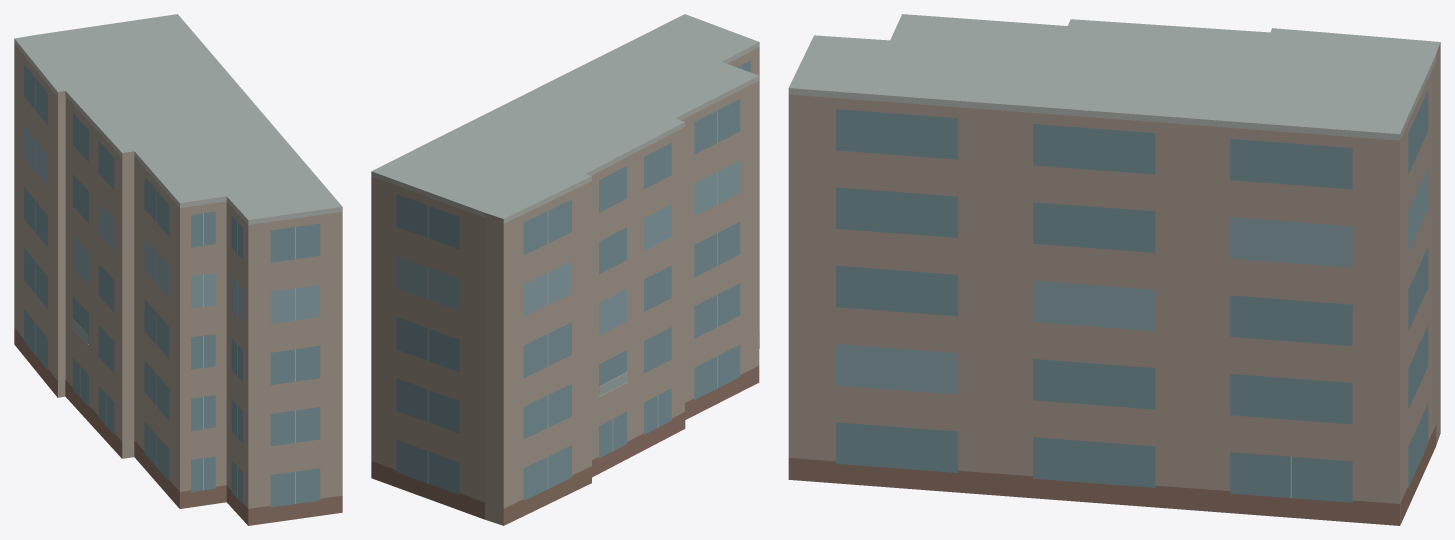
File: survey-upis-32870873.glb
The picture shows the model from 3 angles, left to right: view 1: azimuth 30°, elevation 25°; view 2: azimuth 150°, elevation 25°; view 3: azimuth 270°, elevation 25°; orthographic projection. The views are drawn at different scales.
Parts seen in each view (by area): view 1: survey-upis-32870873.tmp; view 2: survey-upis-32870873.tmp; view 3: survey-upis-32870873.tmp.
Part boxes in pixels (x1,y1,x2,y2): survey-upis-32870873.tmp: [14, 14, 342, 525]; survey-upis-32870873.tmp: [371, 14, 759, 525]; survey-upis-32870873.tmp: [788, 14, 1440, 525].
Size of the model in its own units: 9.88 by 15 by 22.64.
